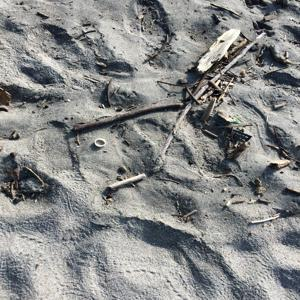plastic: (248, 215, 288, 228), (91, 131, 109, 152)
